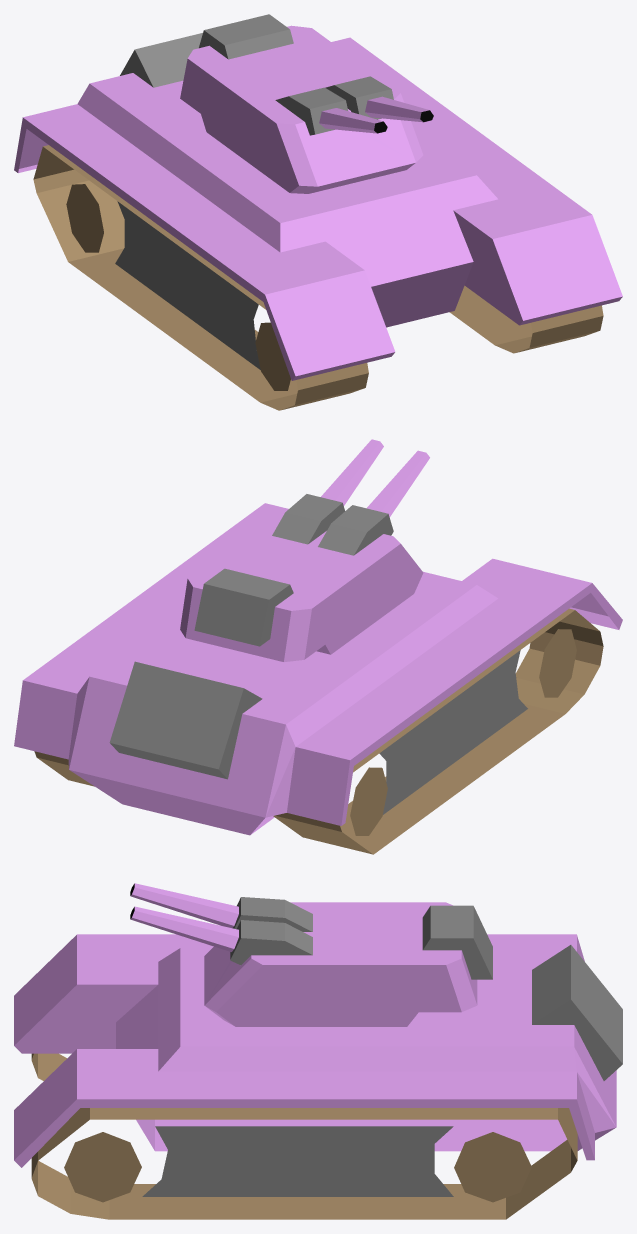
Rendered from Tank.fbx.
The picture shows the model from 3 angles, top to bottom: view 1: azimuth 30°, elevation 25°; view 2: azimuth 150°, elevation 25°; view 3: azimuth 270°, elevation 25°; orthographic projection. The views are drawn at different scales.
Visible parts, largest first — view 1: Tank; view 2: Tank; view 3: Tank.
Boxes of the visible parts, x1,y1,x2,y2 form: Tank: (14,14,622,410); Tank: (14,439,622,854); Tank: (14,883,622,1219).
Size of the model in its own units: 0.616 by 0.4302 by 0.9619.
